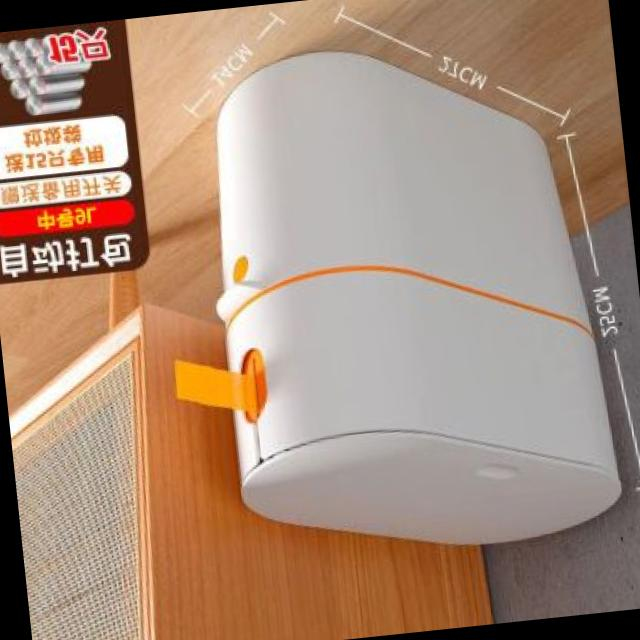dustbin: (195, 23, 629, 576)
